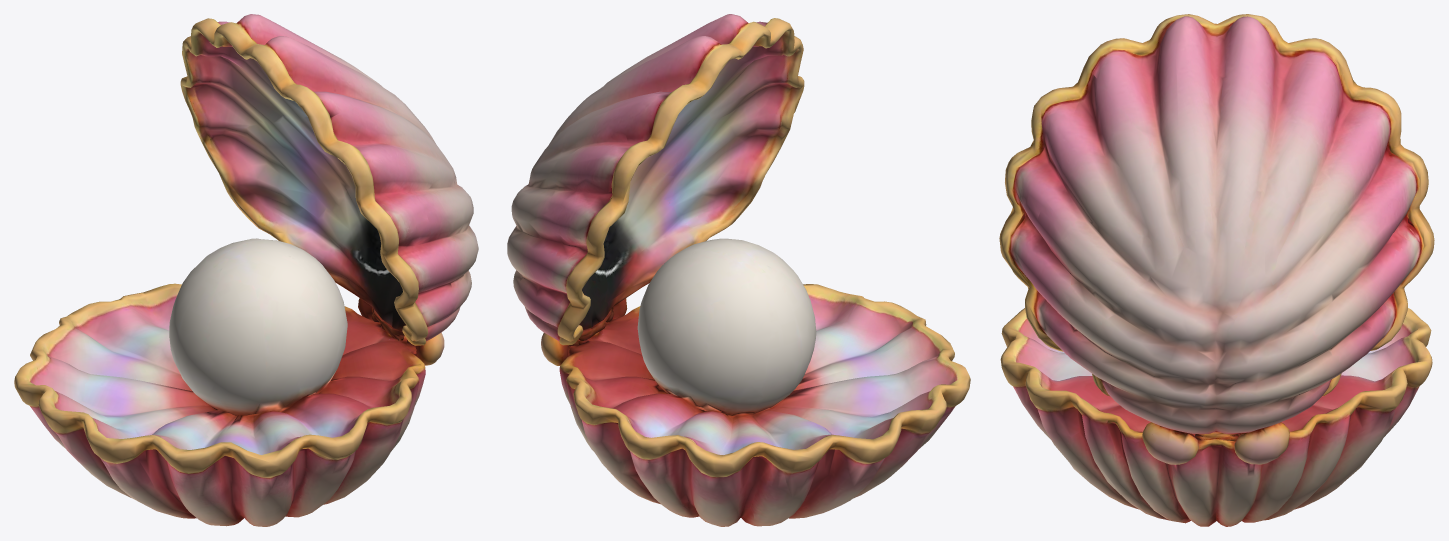
The model's file is SM_Clam_Pearl.glb.
3 renders of one model, left to right at view 1: azimuth 30°, elevation 25°; view 2: azimuth 150°, elevation 25°; view 3: azimuth 270°, elevation 25°, orthographic. The views are drawn at different scales.
Visible parts, largest first — view 1: tripo_node_cf9a714d-51a6-4c1b-8262-a929005515dd; view 2: tripo_node_cf9a714d-51a6-4c1b-8262-a929005515dd; view 3: tripo_node_cf9a714d-51a6-4c1b-8262-a929005515dd.
Part boxes in pixels (x1,y1,x2,y2): tripo_node_cf9a714d-51a6-4c1b-8262-a929005515dd: (14, 14, 478, 526); tripo_node_cf9a714d-51a6-4c1b-8262-a929005515dd: (507, 14, 970, 526); tripo_node_cf9a714d-51a6-4c1b-8262-a929005515dd: (999, 14, 1434, 526).
Size of the model in its own units: 0.9027 by 0.9806 by 0.7903.
Materials: 1 (1 with a texture image).
